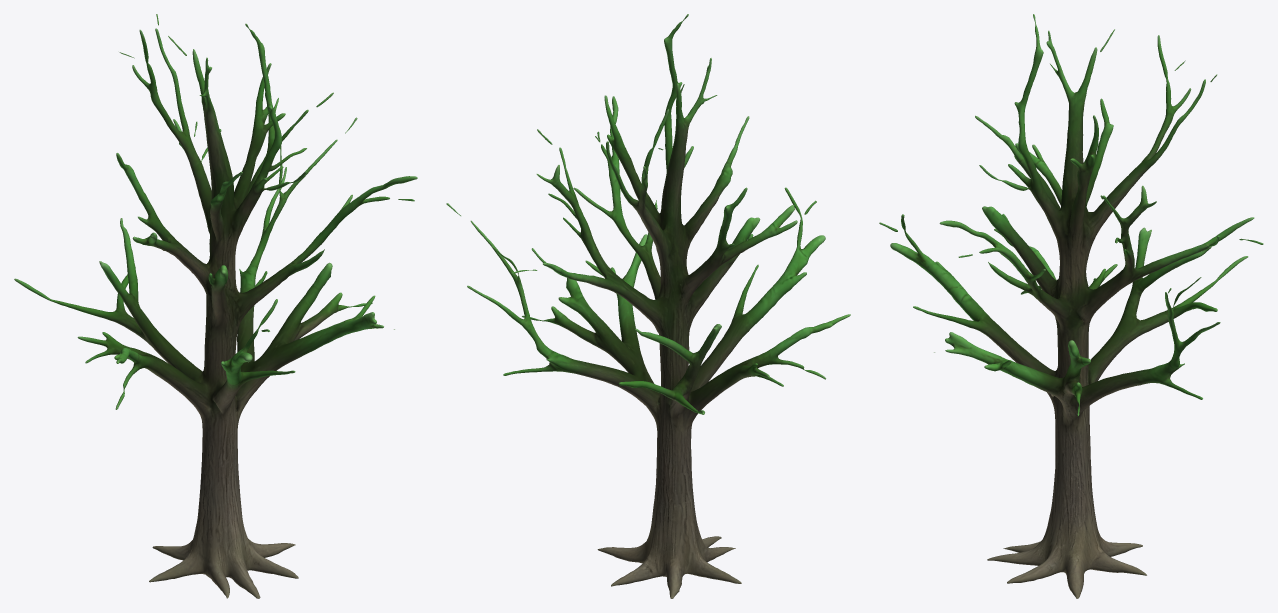
File: alder-leafy.glb
3 views of the same model, side by side, from view 1: azimuth 30°, elevation 25°; view 2: azimuth 150°, elevation 25°; view 3: azimuth 270°, elevation 25° (orthographic). The views are drawn at different scales.
Parts seen in each view (by area): view 1: model; view 2: model; view 3: model.
Part boxes in pixels (bbox=[...]): model: bbox=[14, 14, 417, 598]; model: bbox=[446, 14, 850, 598]; model: bbox=[879, 14, 1263, 598].
Size of the model in its own units: 1.17 by 1.89 by 1.19.
1 material, 1 textured.
